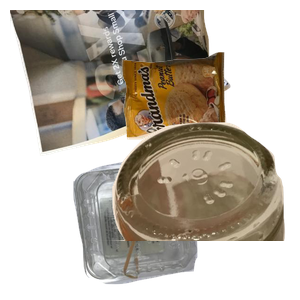glass: (89, 120, 300, 300)
paper: (10, 10, 233, 158)
plastic: (71, 154, 300, 300)
trash: (120, 50, 300, 182)
